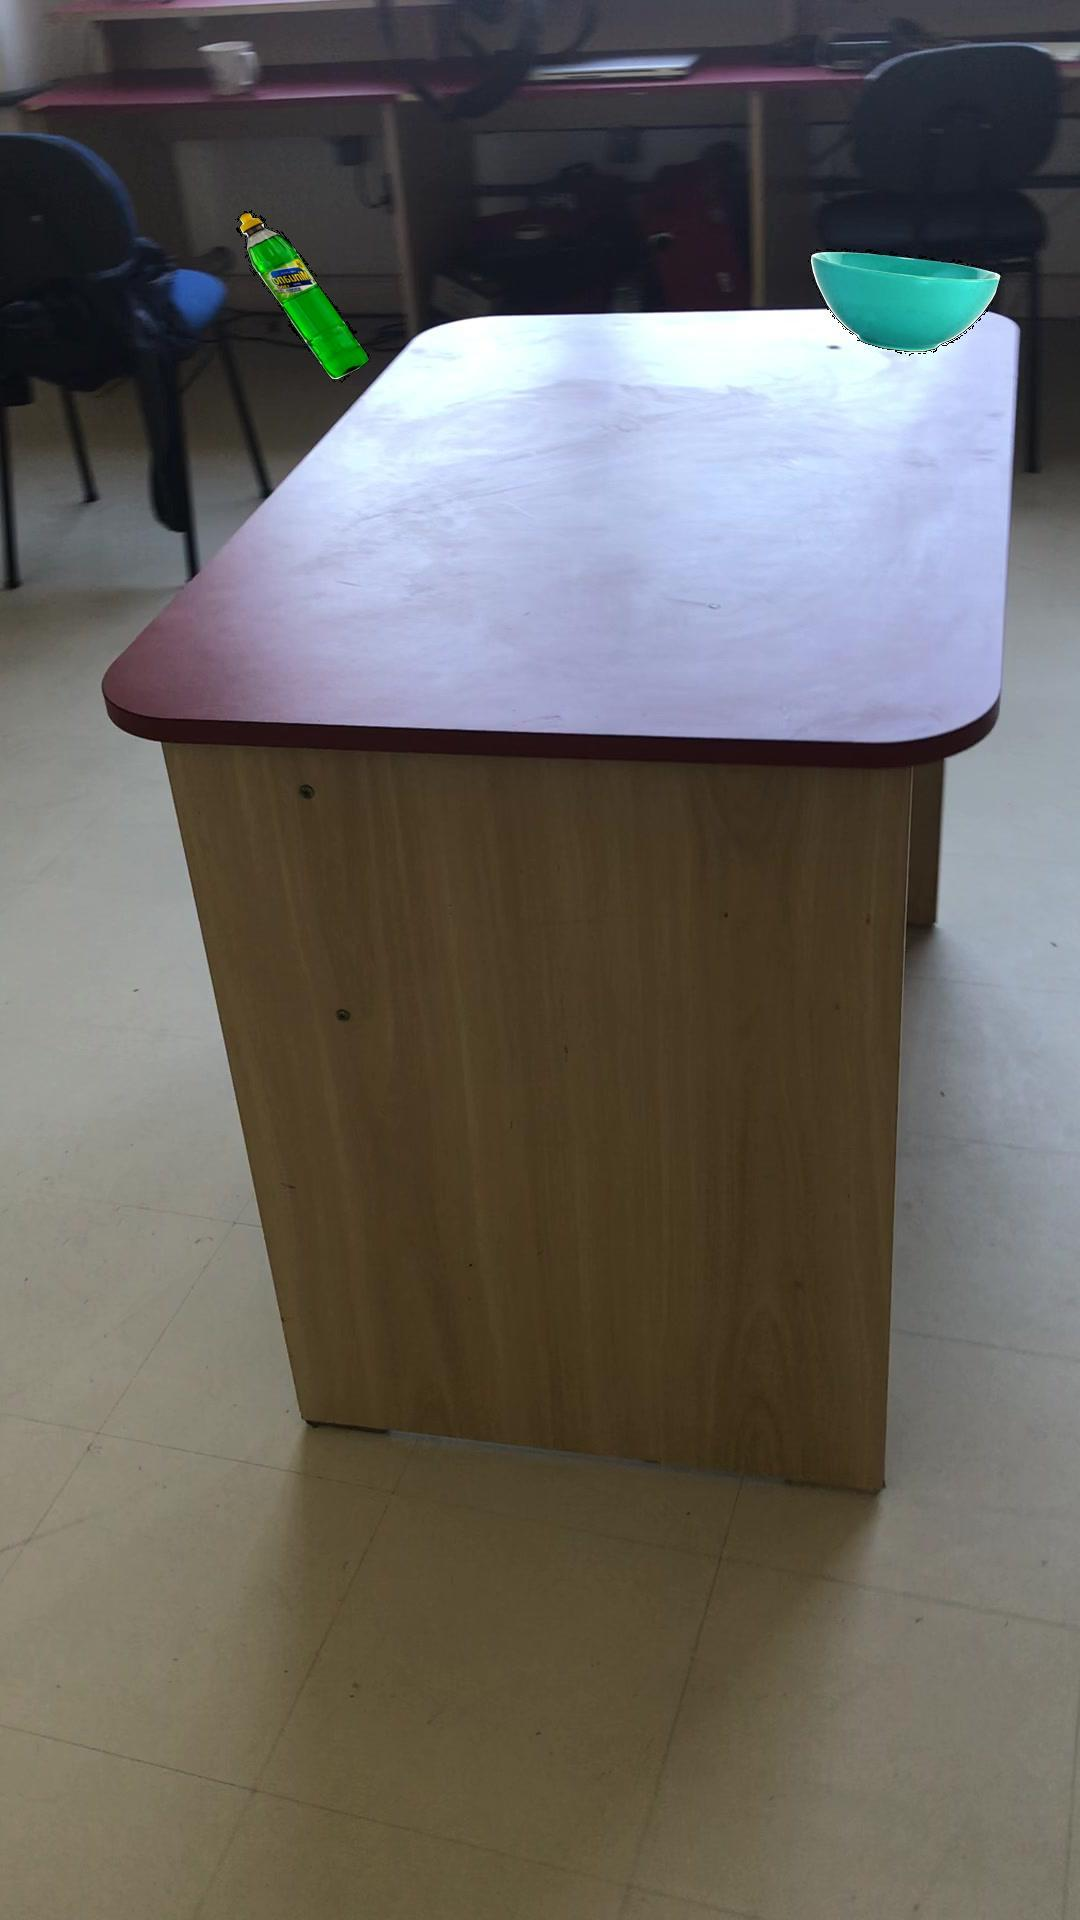bowl: (808, 248, 1000, 352)
cleaner: (235, 208, 368, 381)
